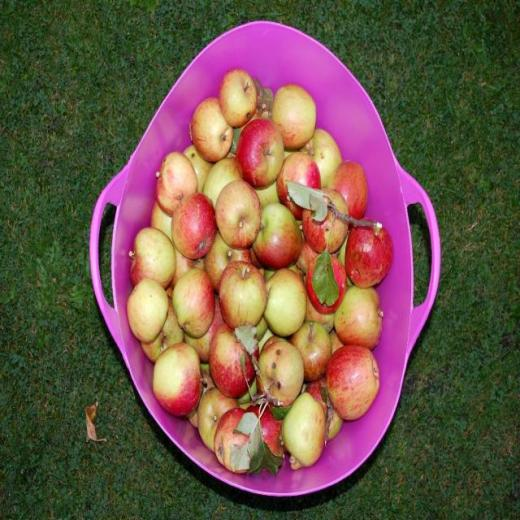Apple: (127, 68, 393, 474)
